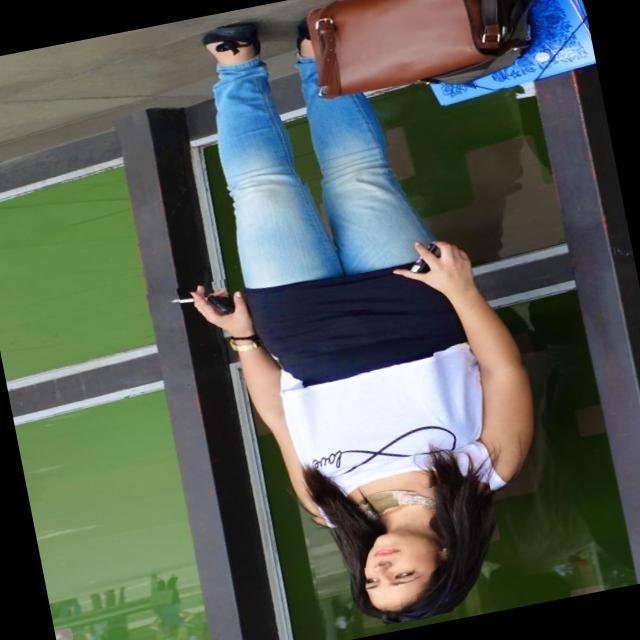cigarette: (126, 279, 235, 329)
